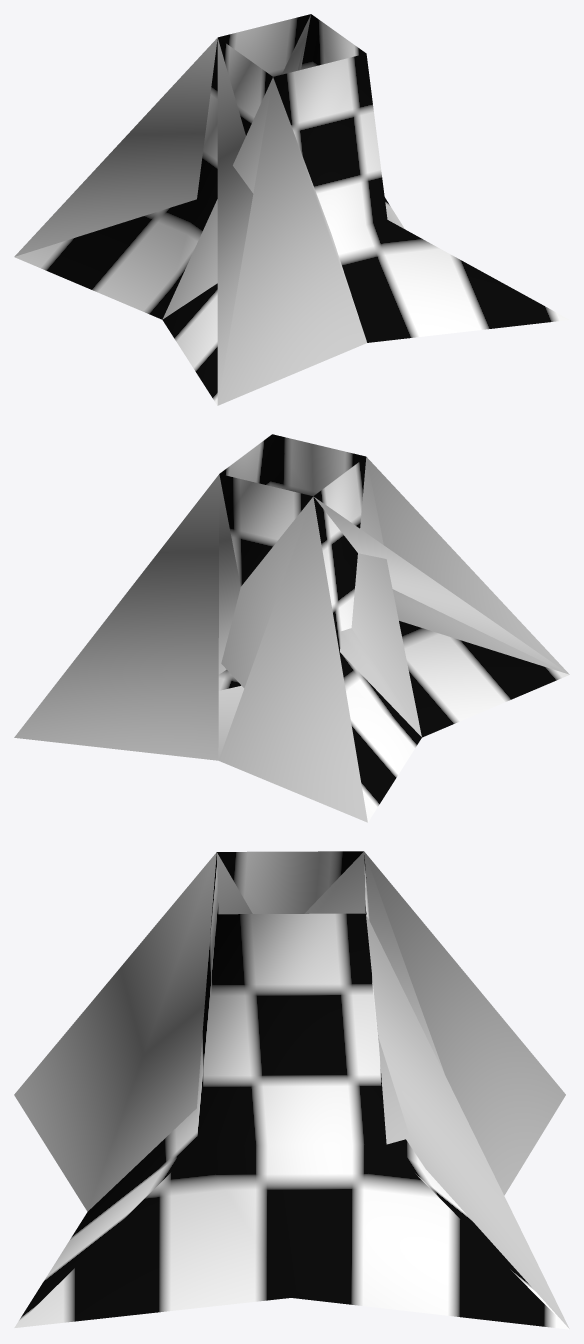
Rendered from nafltr81.dae.
The picture shows the model from 3 angles, top to bottom: view 1: azimuth 30°, elevation 25°; view 2: azimuth 150°, elevation 25°; view 3: azimuth 270°, elevation 25°; orthographic projection. The views are drawn at different scales.
Parts seen in each view (by area): view 1: trunk0, crown0; view 2: crown0, trunk0; view 3: trunk0, crown0.
Boxes of the visible parts, left/top/right/bottom form: trunk0: left=14, top=14, right=569, bottom=405; crown0: left=14, top=15, right=366, bottom=405; crown0: left=14, top=457, right=569, bottom=822; trunk0: left=218, top=434, right=569, bottom=821; trunk0: left=14, top=851, right=569, bottom=1329; crown0: left=14, top=851, right=569, bottom=1328.
Bounding box in the file's own units: 1.03 × 1.03 × 0.6725.
2 materials, 1 textured.
